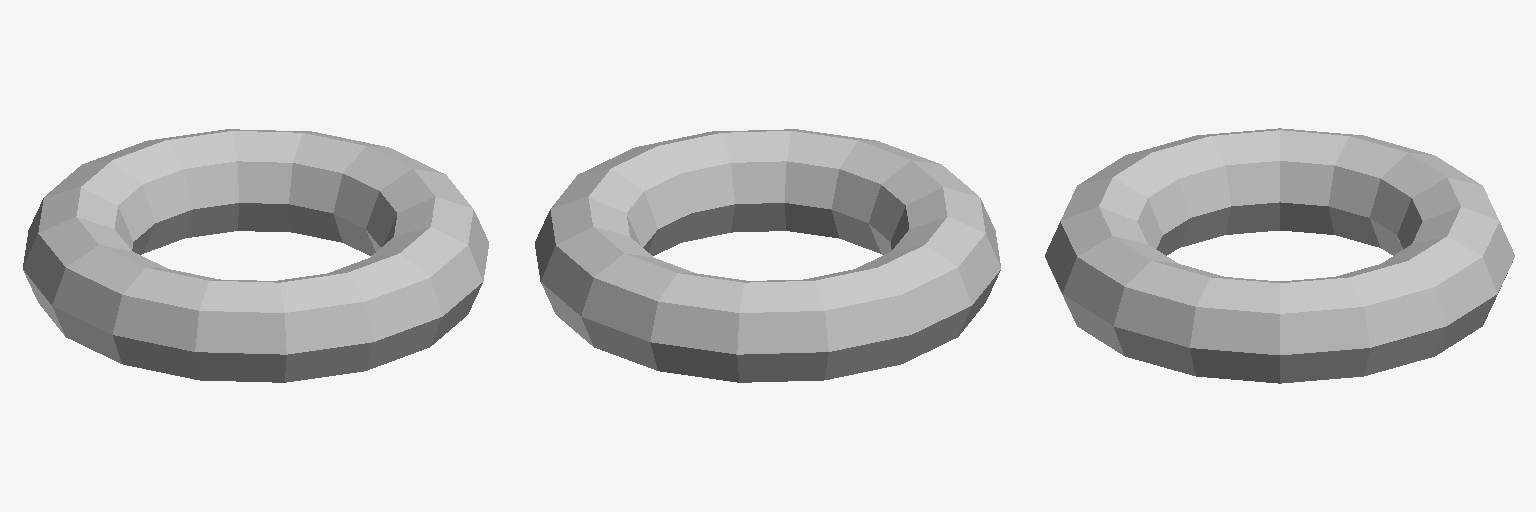
File: supertoroid_uv.obj
3 views of the same model, side by side, from view 1: azimuth 30°, elevation 25°; view 2: azimuth 150°, elevation 25°; view 3: azimuth 270°, elevation 25° (orthographic).
Parts seen in each view (by area): view 1: SuperToroid; view 2: SuperToroid; view 3: SuperToroid.
Part boxes in pixels (x1,y1,x2,y2): SuperToroid: (23,129,488,382); SuperToroid: (535,129,1000,382); SuperToroid: (1045,128,1514,383).
Bounding box in the file's own units: 2.6 × 0.6 × 2.6.